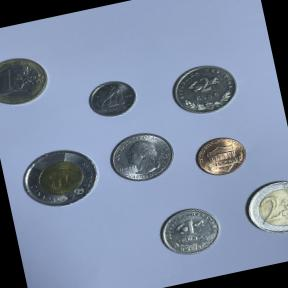1 Euro: (0, 48, 54, 113)
2 Euro: (237, 174, 288, 242)
Canda-10cent-: (82, 74, 144, 123)
Canda-2Dollar-: (14, 140, 106, 215)
Croatia-2Kune-: (164, 55, 246, 121)
US-1cent-: (188, 128, 254, 182)
US-25cent-: (102, 124, 184, 188)
